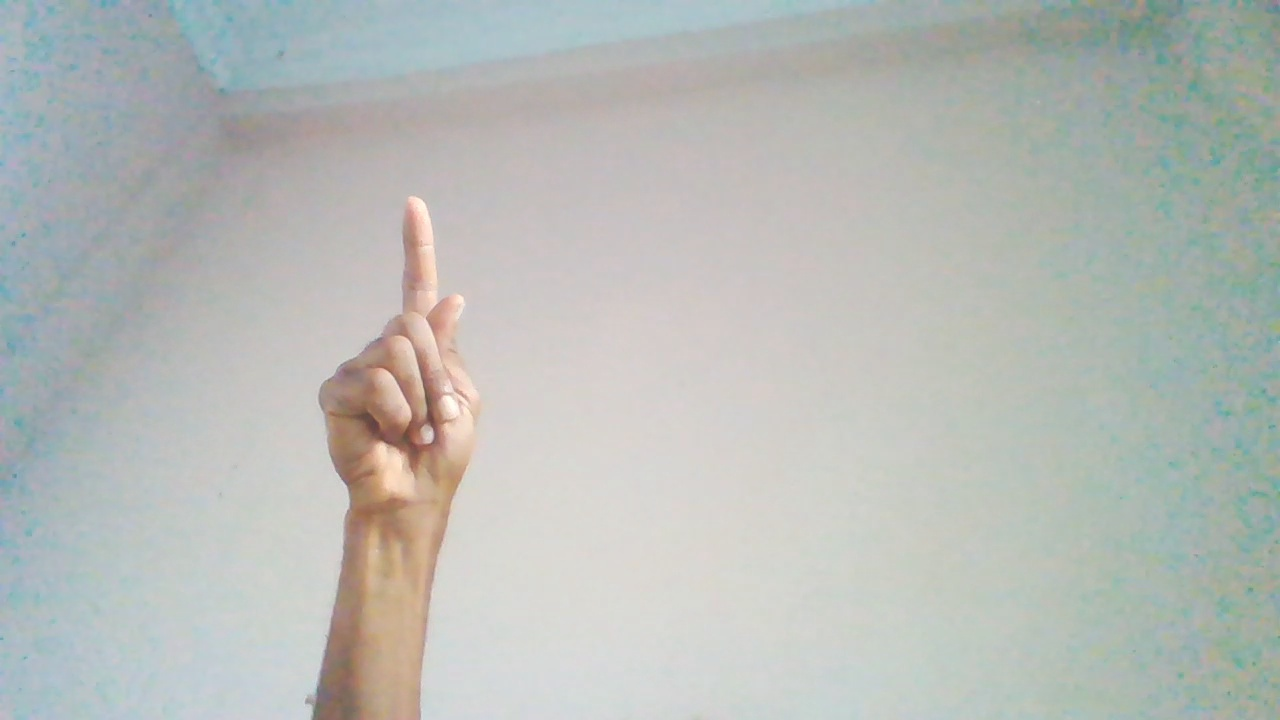ne: (317, 196, 484, 598)
